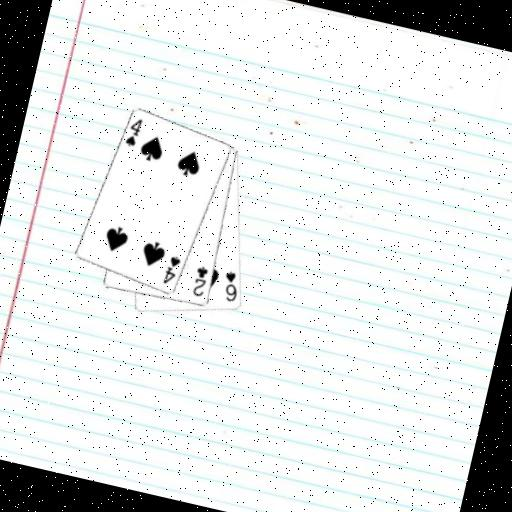2C: (189, 263, 212, 300)
4S: (159, 252, 183, 288), (122, 114, 146, 150)
6S: (218, 268, 244, 305)
